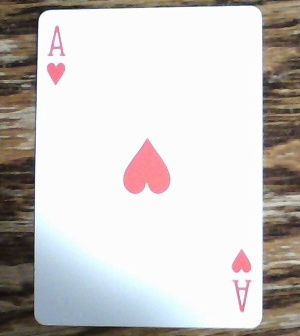card: (34, 5, 265, 331)
